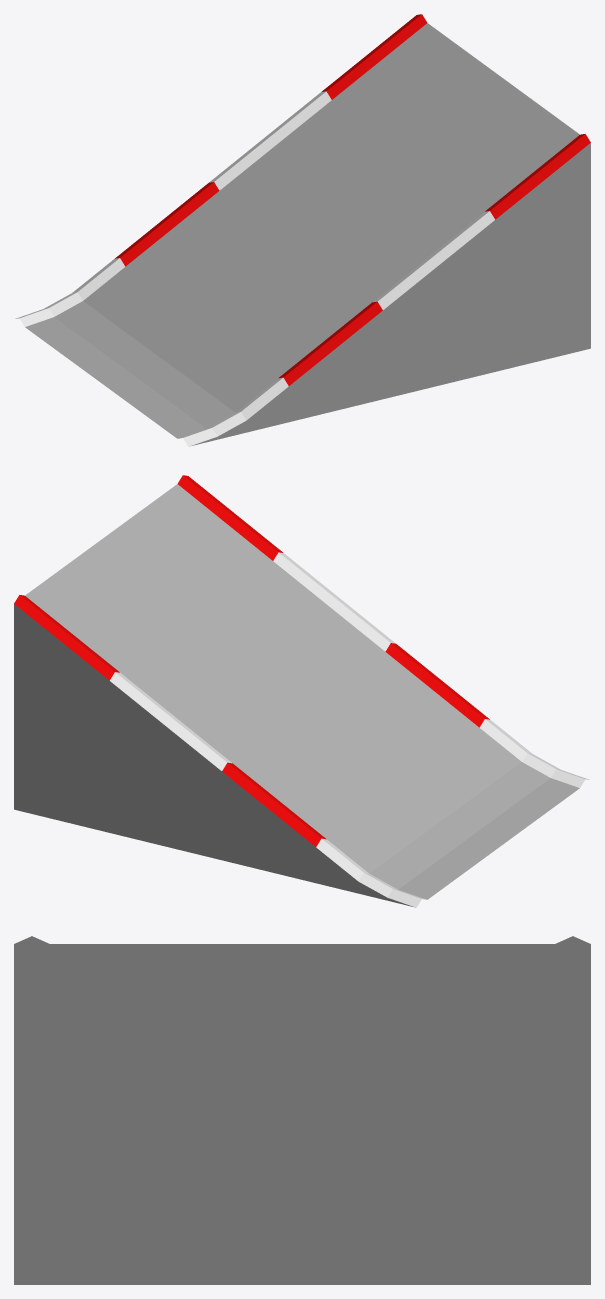
The model's file is Road_tramlin_01.fbx.
3 renders of one model, top to bottom at view 1: azimuth 30°, elevation 25°; view 2: azimuth 150°, elevation 25°; view 3: azimuth 270°, elevation 25°, orthographic. The views are drawn at different scales.
Visible parts, largest first — view 1: Road_Tramplin_01; view 2: Road_Tramplin_01; view 3: Road_Tramplin_01.
Boxes of the visible parts, x1=… form: Road_Tramplin_01: x1=15, y1=14, x2=590, y2=446; Road_Tramplin_01: x1=14, y1=475, x2=589, y2=907; Road_Tramplin_01: x1=14, y1=936, x2=590, y2=1284.
Bounding box in the file's own units: 3.77 × 1.89 × 2.83.
